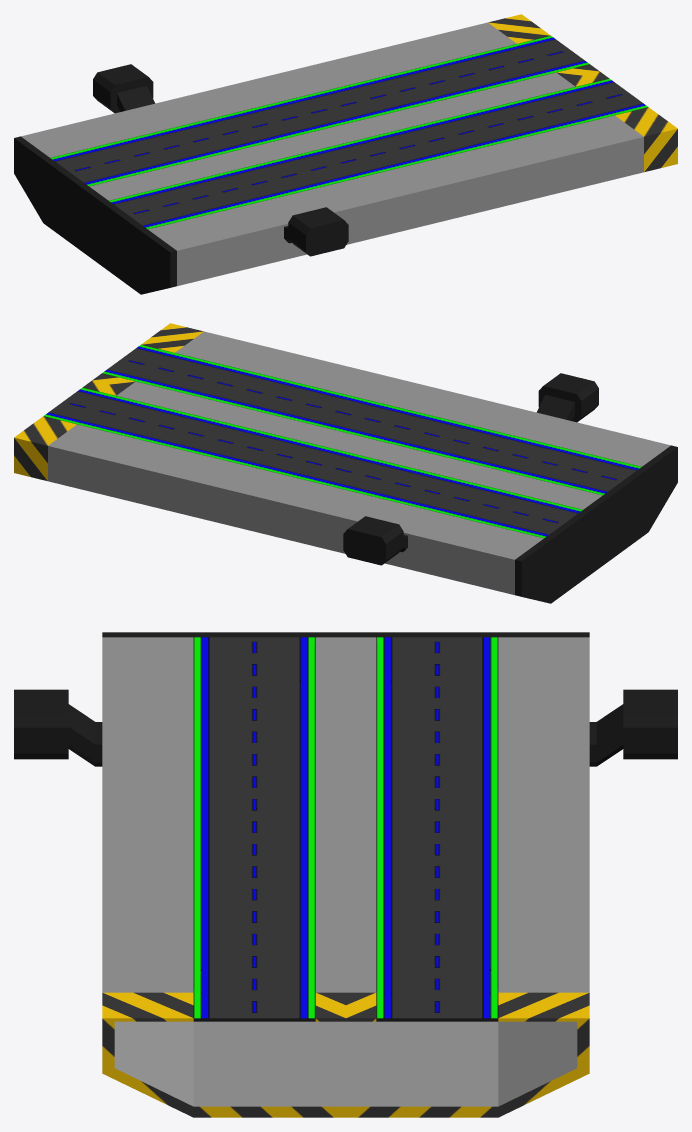
The model's file is SM_CausewayBridgeMidsection.FBX.
3 renders of one model, top to bottom at view 1: azimuth 30°, elevation 25°; view 2: azimuth 150°, elevation 25°; view 3: azimuth 270°, elevation 25°, orthographic. The views are drawn at different scales.
Visible parts, largest first — view 1: Object002; view 2: Object002; view 3: Object002.
Boxes of the visible parts, x1,y1,x2,y2 form: Object002: (14,14,677,294); Object002: (14,323,677,603); Object002: (14,632,677,1117).
Bounding box in the file's own units: 7500 × 1150 × 5450.
Materials: 4 (2 with a texture image).
